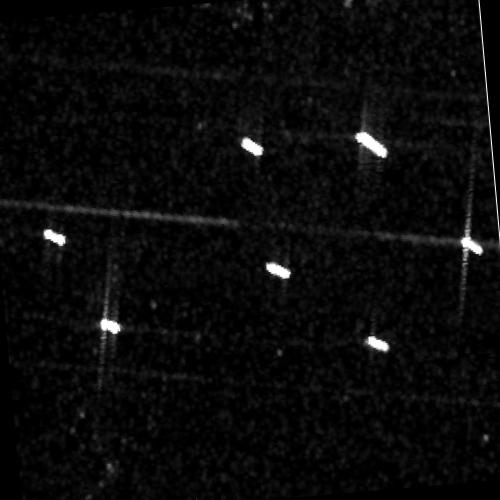ship: (355, 131, 388, 158), (264, 259, 291, 280), (240, 135, 263, 157), (42, 226, 66, 247), (460, 235, 484, 256), (366, 334, 390, 353), (99, 317, 121, 334)
